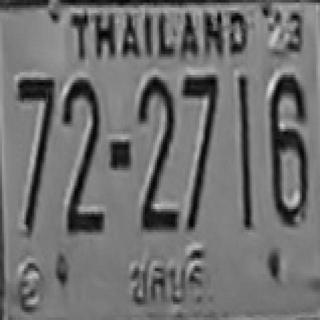N02: (65, 111, 104, 232)
N06: (268, 72, 306, 225)
N07: (16, 76, 54, 195), (181, 72, 217, 165)
P13: (122, 243, 206, 318)
